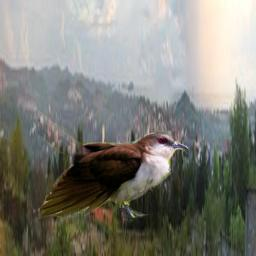Cuckoo: (38, 74, 191, 224)
